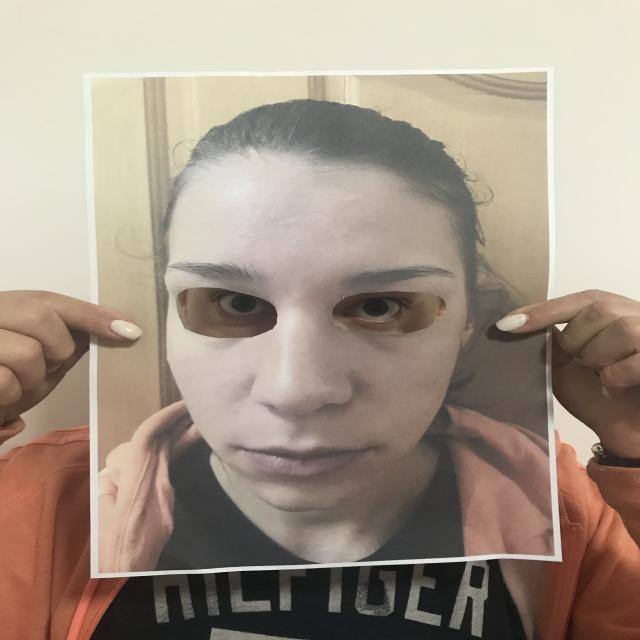mask: (80, 68, 583, 581)
